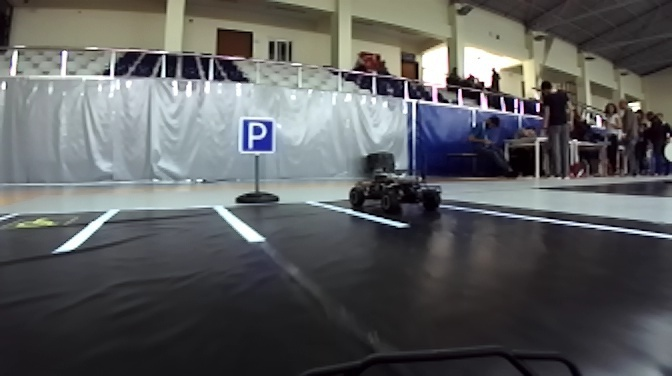park: (237, 116, 278, 157)
